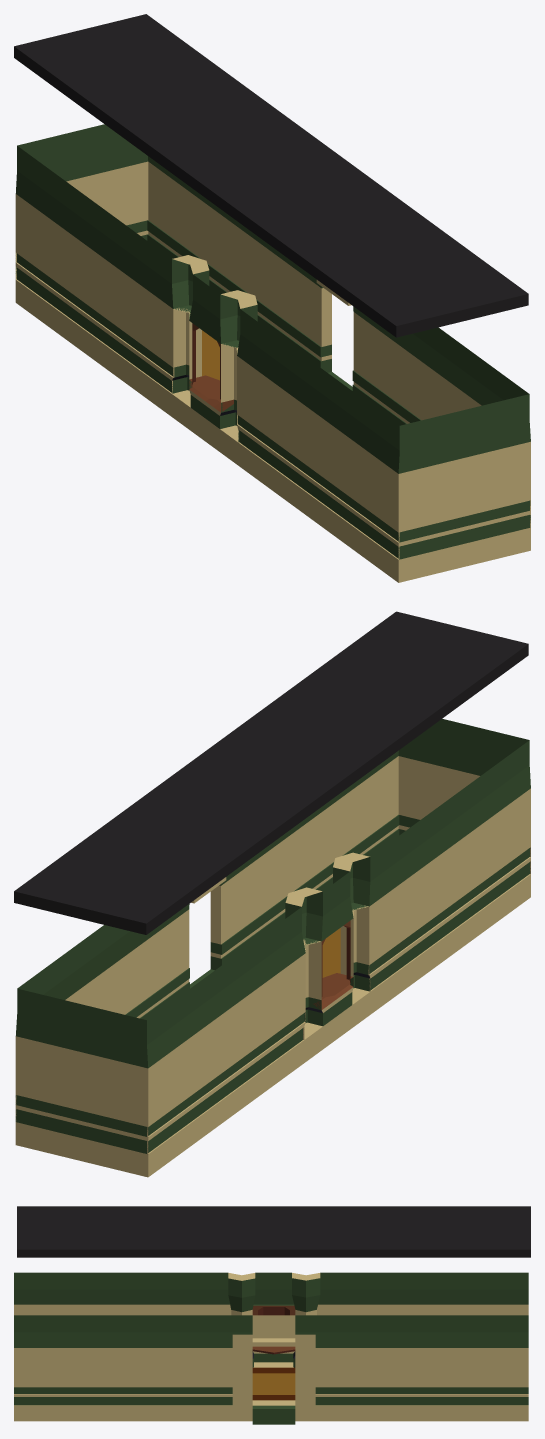
File: floorHallwayAndCeiling3.fbx
The picture shows the model from 3 angles, top to bottom: view 1: azimuth 30°, elevation 25°; view 2: azimuth 150°, elevation 25°; view 3: azimuth 270°, elevation 25°; orthographic projection. The views are drawn at different scales.
Visible parts, largest first — view 1: hallway, Cube.001; view 2: hallway, Cube.001; view 3: hallway, Cube.001.
Part boxes in pixels (left/top/right/bottom): hallway: left=15, top=124, right=530, bottom=582; Cube.001: left=14, top=14, right=528, bottom=337; hallway: left=15, top=718, right=530, bottom=1177; Cube.001: left=14, top=611, right=528, bottom=934; hallway: left=14, top=1272, right=528, bottom=1424; Cube.001: left=17, top=1206, right=530, bottom=1257.
Size of the model in its own units: 335 by 552 by 1509.
